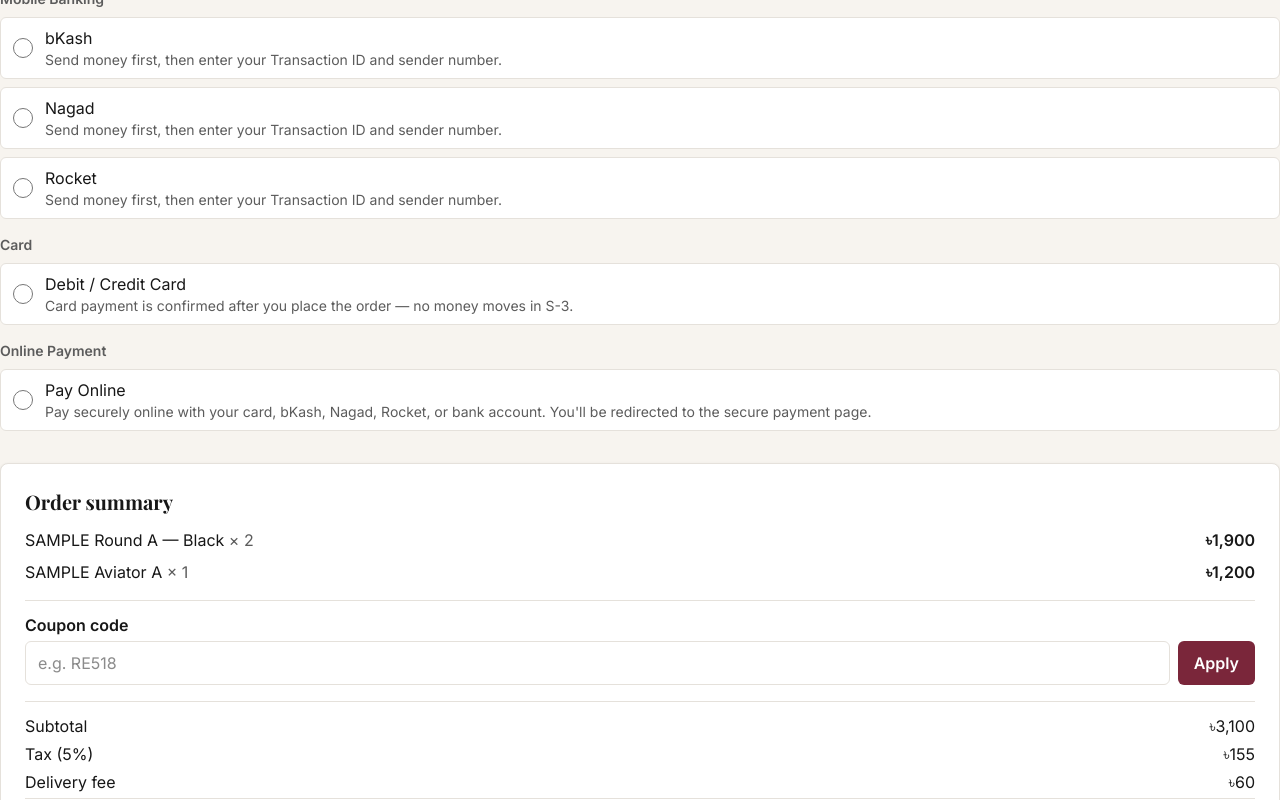
CheckoutForm — Pay Online (S-7) › a failed online checkout shows the plain-words error and keeps the bag
(page scrolled)
Click the radio button labelled "Pay Online" at x=23, y=400, box [13,390,33,410]
(page scrolled)
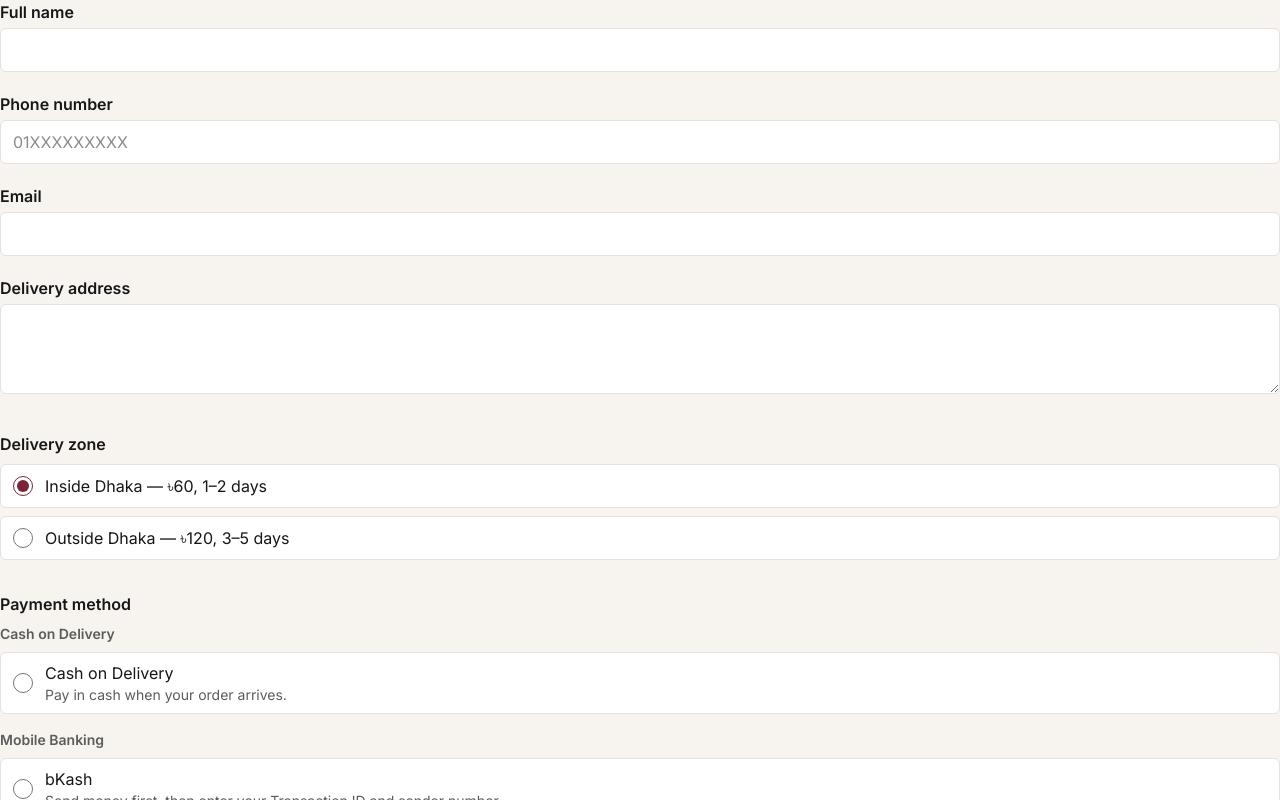
Type "Rabby Hasan" into the field labelled "Full name" at x=640, y=50, box [0,28,1279,72]
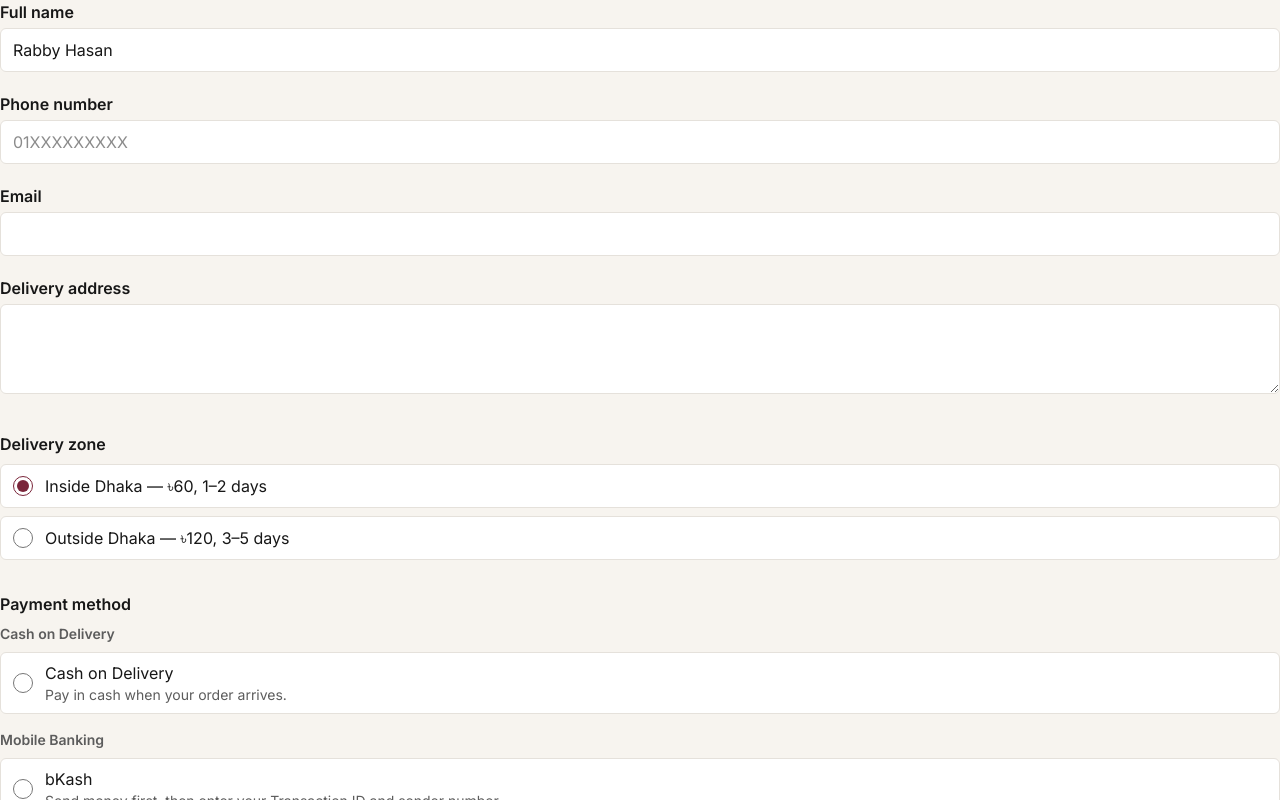
Type "+8801712345678" into the field labelled "Phone number" at x=640, y=142, box [0,120,1279,164]
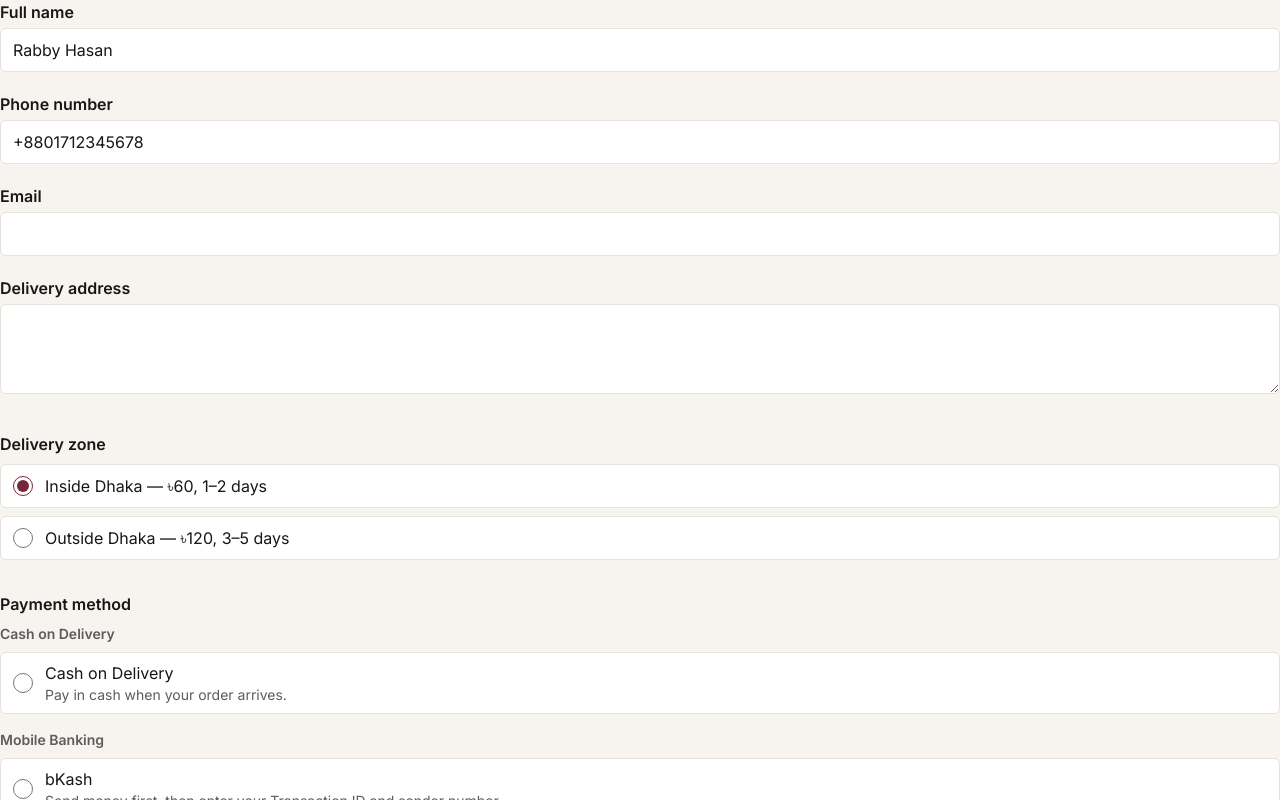
Type "rabby@example.com" into the field labelled "Email" at x=640, y=234, box [0,212,1279,256]
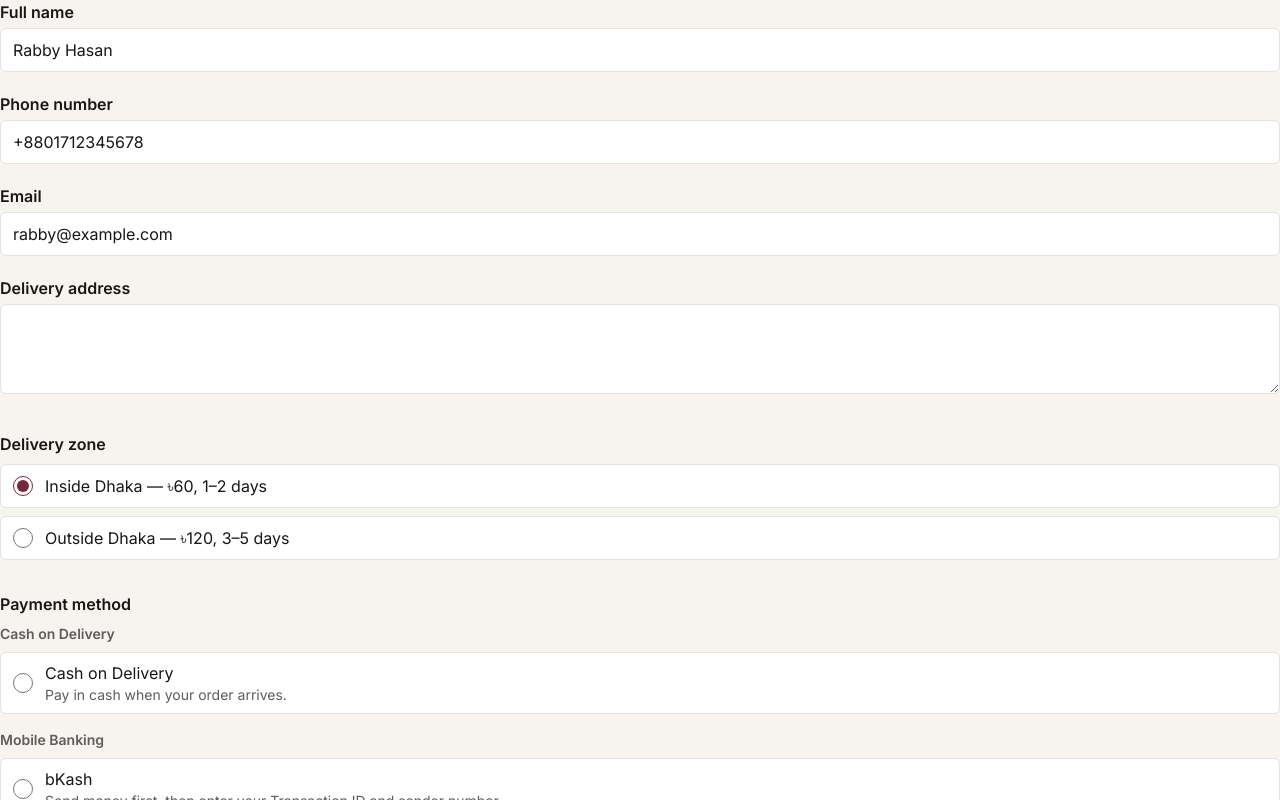
Type "House 12, Road 5, Dhanmondi, Dhaka" into the text box labelled "Delivery address" at x=640, y=349, box [0,304,1279,394]
(page scrolled)
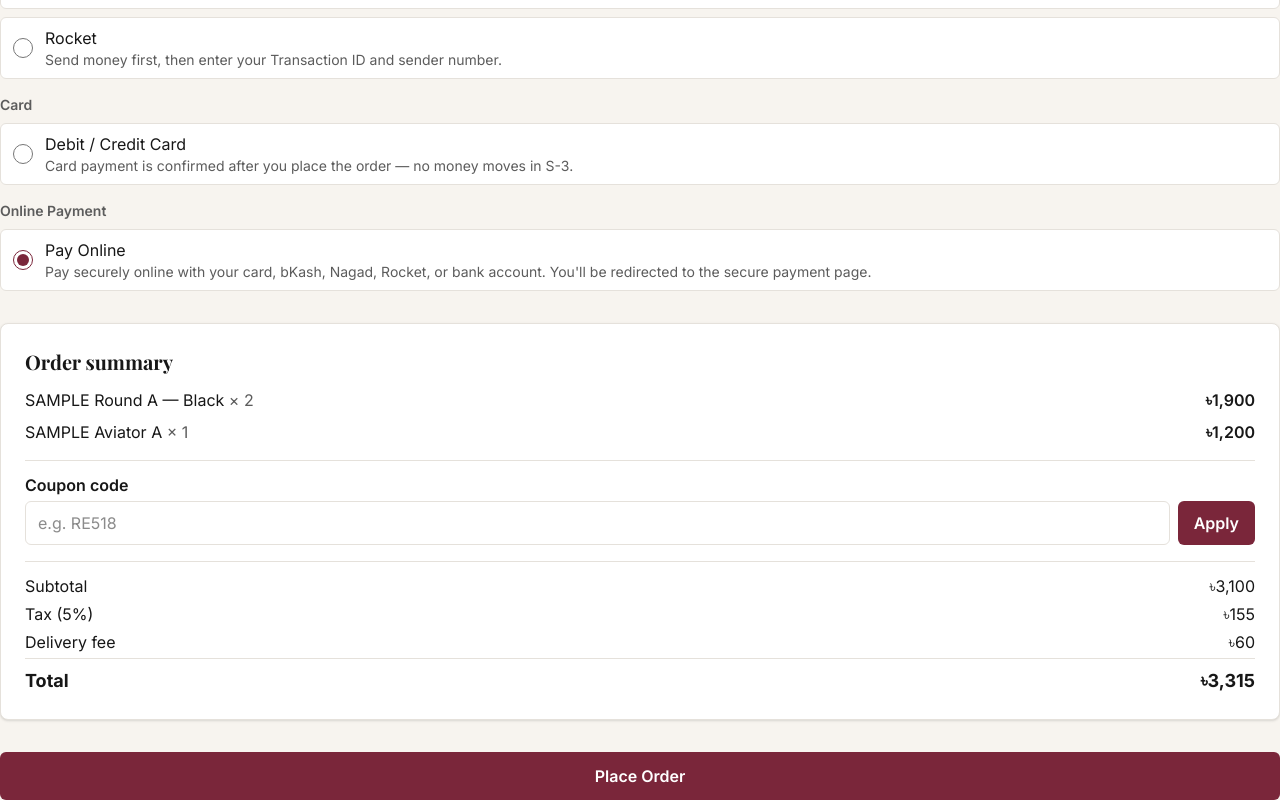
Click the button "Place Order" at x=640, y=776, box [0,752,1279,799]
(page scrolled)
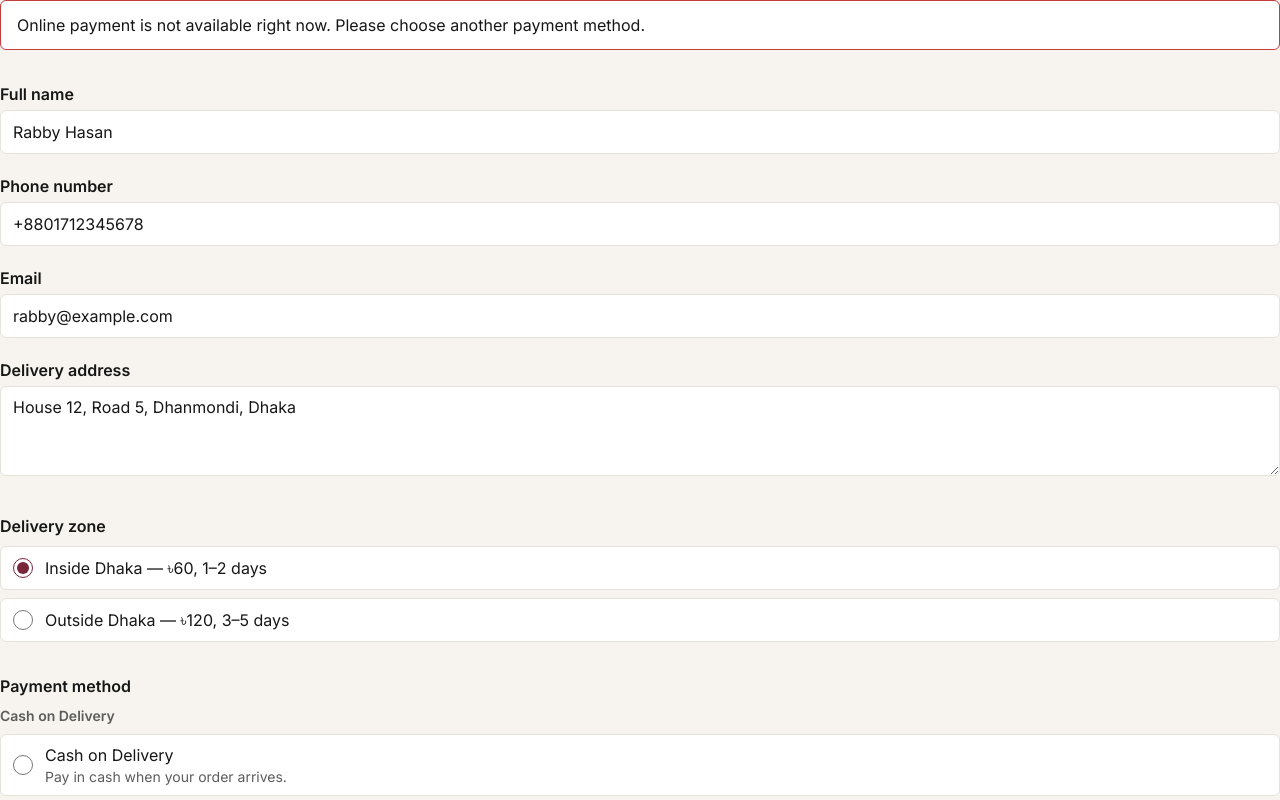
Expected: the text "Online payment is not available right now. Please choose another payment method." is shown, [0,0,1279,50]
